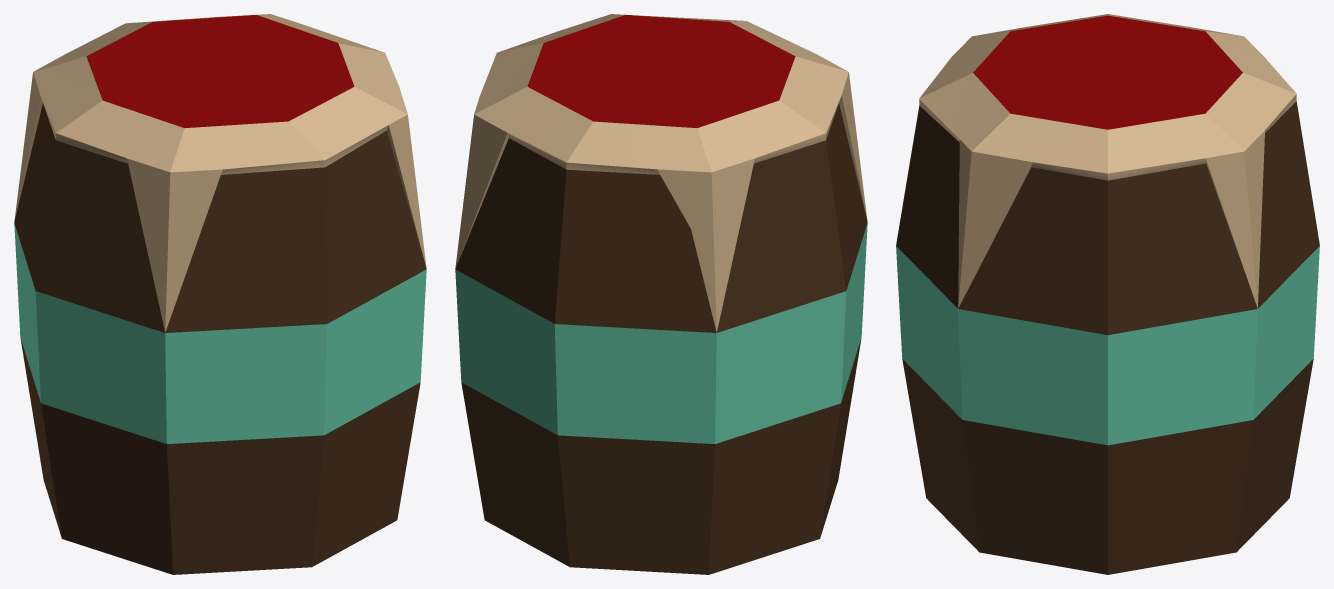
File: Tribal_Plains_Drum_Decoration_Prop_01.fbx
3 views of the same model, side by side, from view 1: azimuth 30°, elevation 25°; view 2: azimuth 150°, elevation 25°; view 3: azimuth 270°, elevation 25° (orthographic).
Visible parts, largest first — view 1: Tribal_Plains_Drum_Decoration_Prop_01; view 2: Tribal_Plains_Drum_Decoration_Prop_01; view 3: Tribal_Plains_Drum_Decoration_Prop_01.
Boxes of the visible parts, bbox=[...] form: Tribal_Plains_Drum_Decoration_Prop_01: bbox=[14, 14, 426, 574]; Tribal_Plains_Drum_Decoration_Prop_01: bbox=[455, 14, 867, 574]; Tribal_Plains_Drum_Decoration_Prop_01: bbox=[896, 14, 1319, 574].
Size of the model in its own units: 1.1 by 1.22 by 1.1.
